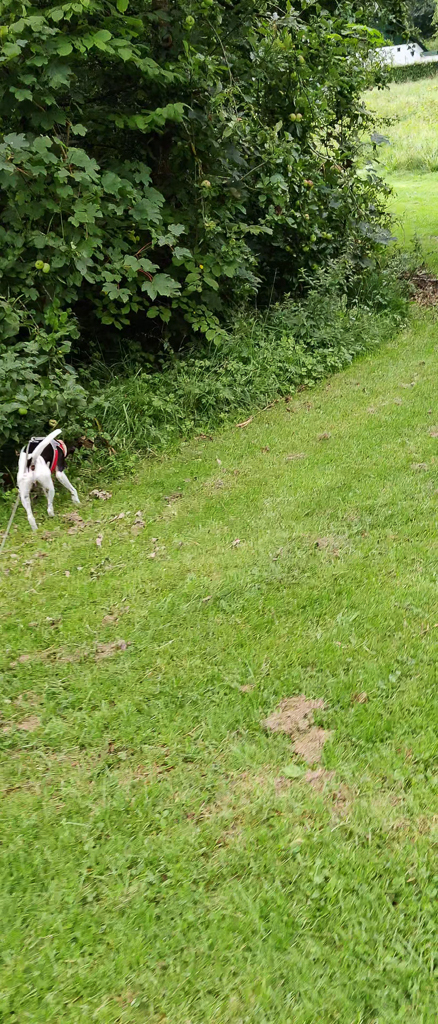Dog: (4, 415, 103, 540)
